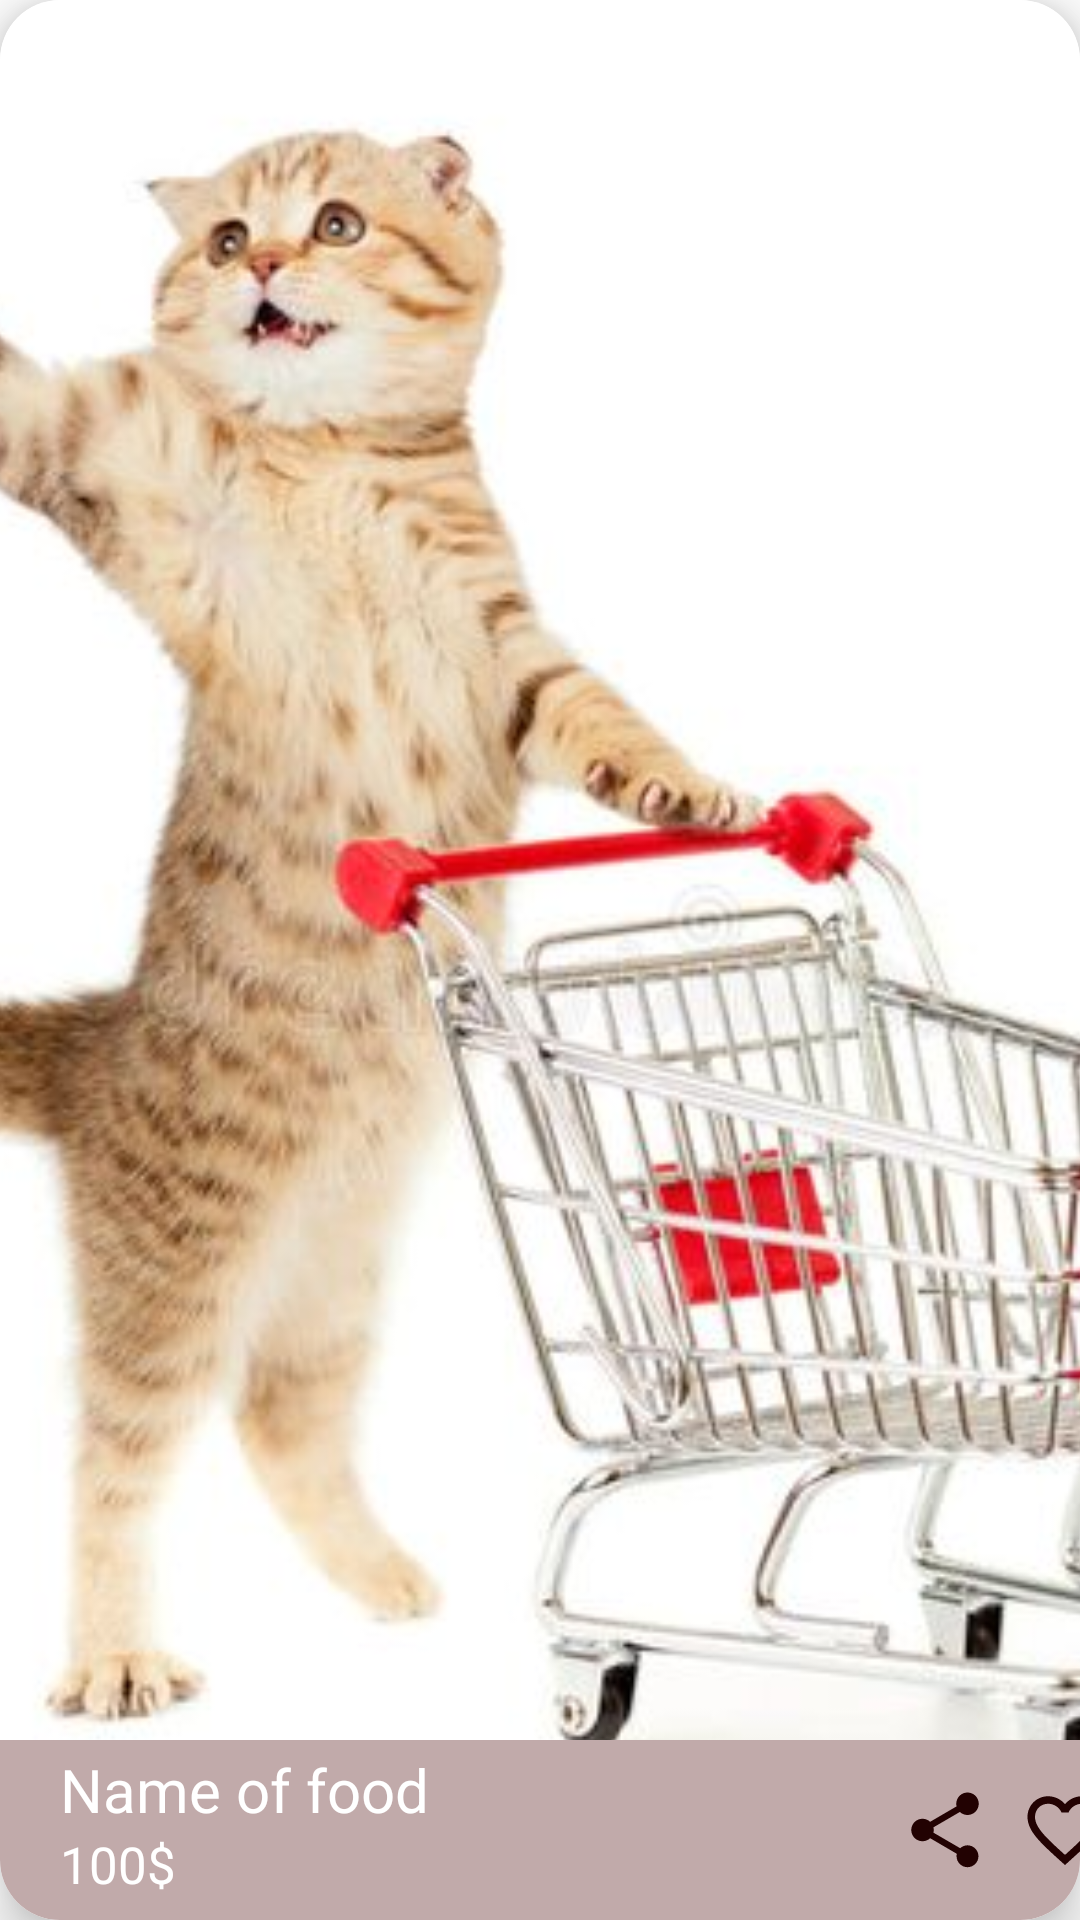

Icons on this 1080*1920 Android screen, each with the point to tap as (x=x, y=y):
share: (x=945, y=1830)
